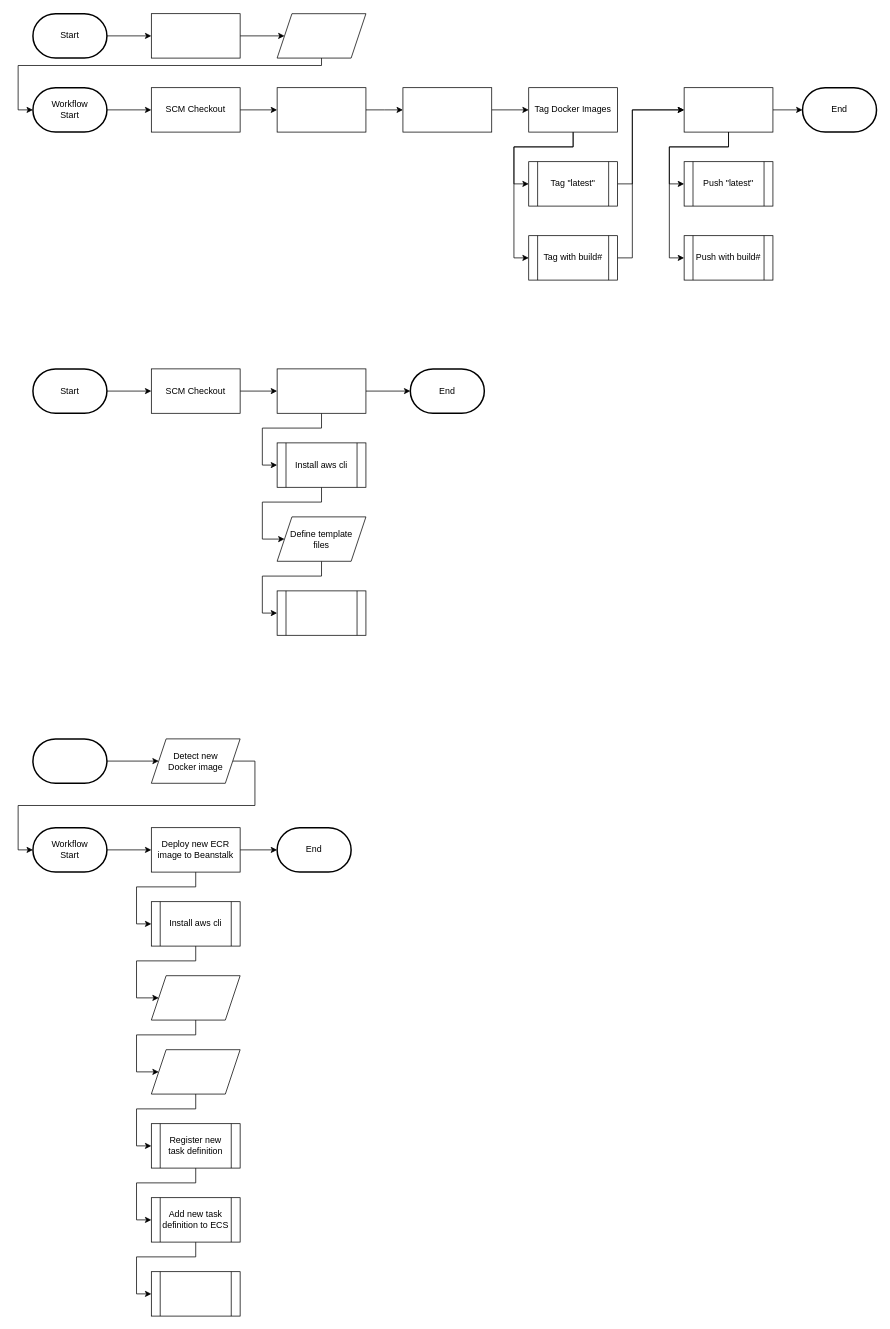
The diagram is 890 pixels wide and 1329 high, and some of its shapes have lost their labels. The box of each missing label's shape, as (x1, y1, x2, y2) in pixels:
Aithenticate with ECR: (276, 87, 366, 132)
Build Docker Images: (402, 87, 492, 132)
Deploy CloudFormation Stack: (276, 368, 366, 413)
Deploy new version to Beanstalk: (151, 1271, 240, 1316)
FOR loop iterates through template files and deploys: (276, 590, 366, 635)
Get Beanstalk environment URI: (151, 1049, 240, 1094)
Get latest ECR image URI: (151, 975, 240, 1020)
Push Docker Images: (683, 87, 773, 132)
Repo & Branch Name: (276, 13, 366, 58)
Sart: (32, 738, 107, 784)
SCM Commit: (151, 13, 240, 58)
